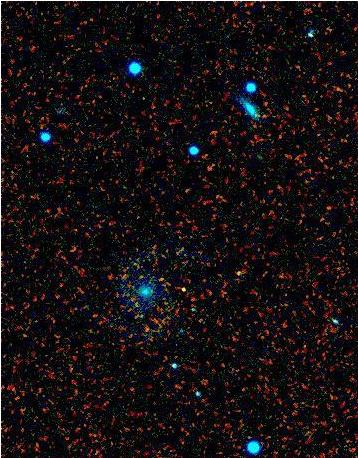star: (168, 277, 198, 307)
